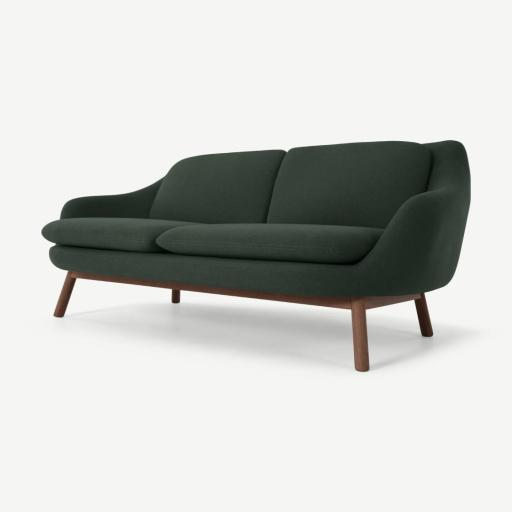back_cushion: (150, 142, 429, 228)
base: (50, 246, 363, 296)
left_arm: (340, 141, 470, 296)
legs: (53, 271, 432, 371)
right_arm: (61, 178, 162, 218)
seat_cushion: (43, 213, 383, 264)
two-seater: (0, 0, 511, 512)
